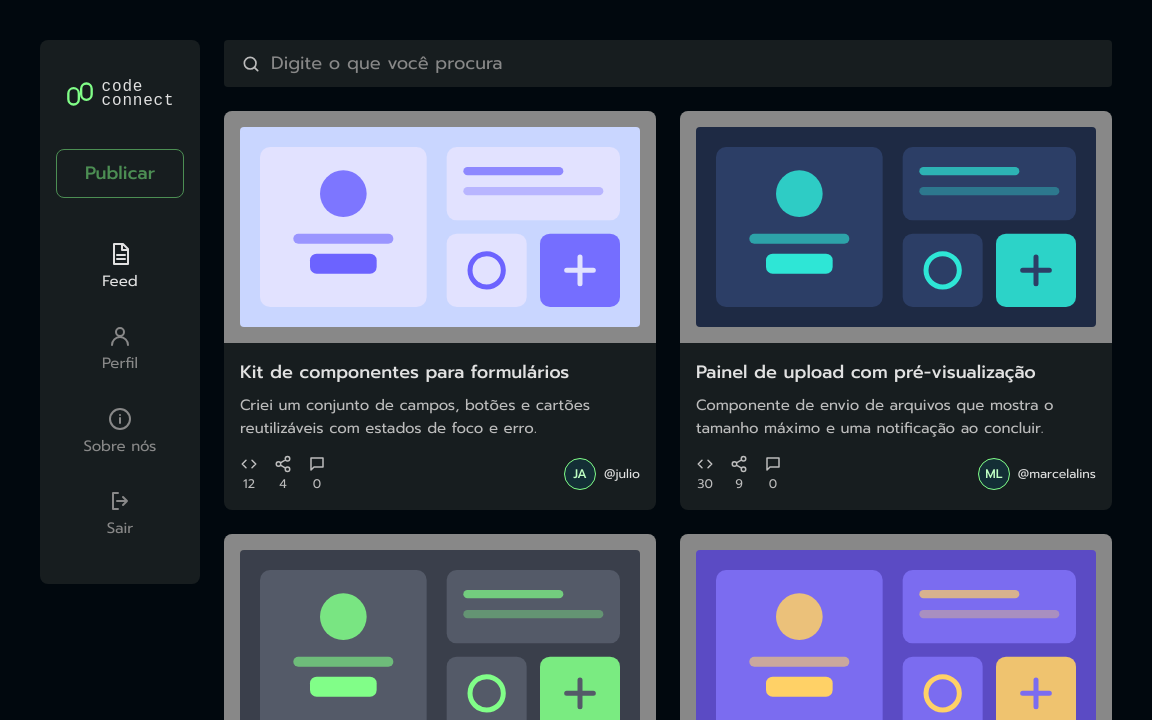
Test case: AppLayout › navega entre as páginas e marca o link ativo
Click the link "Perfil" at (120, 349), box [102,324,138,374]
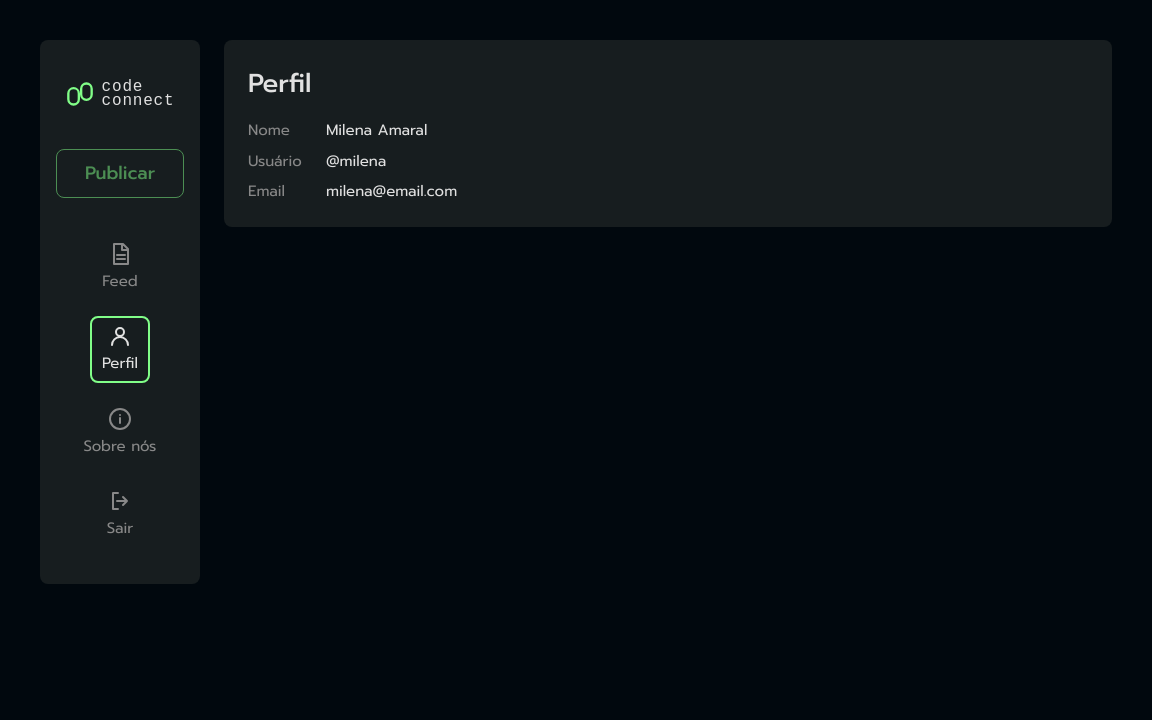
Expected: the heading "Perfil" is shown, [248,64,312,103]
Expected: the text "@milena" is shown, [326,150,386,172]
